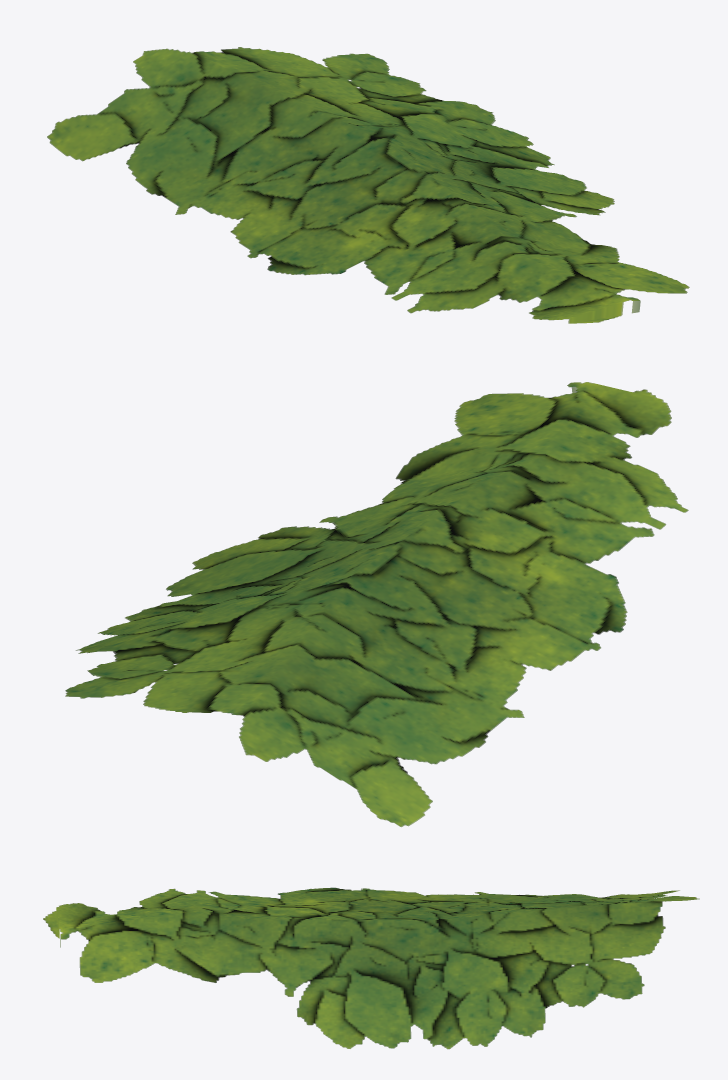
Rendered from Bush_08.fbx.
The picture shows the model from 3 angles, top to bottom: view 1: azimuth 30°, elevation 25°; view 2: azimuth 150°, elevation 25°; view 3: azimuth 270°, elevation 25°; orthographic projection. The views are drawn at different scales.
Visible parts, largest first — view 1: Bush_08; view 2: Bush_08; view 3: Bush_08.
Part boxes in pixels (left/top/right/bottom): Bush_08: left=47, top=47, right=689, bottom=323; Bush_08: left=65, top=382, right=688, bottom=827; Bush_08: left=43, top=887, right=699, bottom=1049.
Size of the model in its own units: 1.78 by 0.3085 by 3.02.
